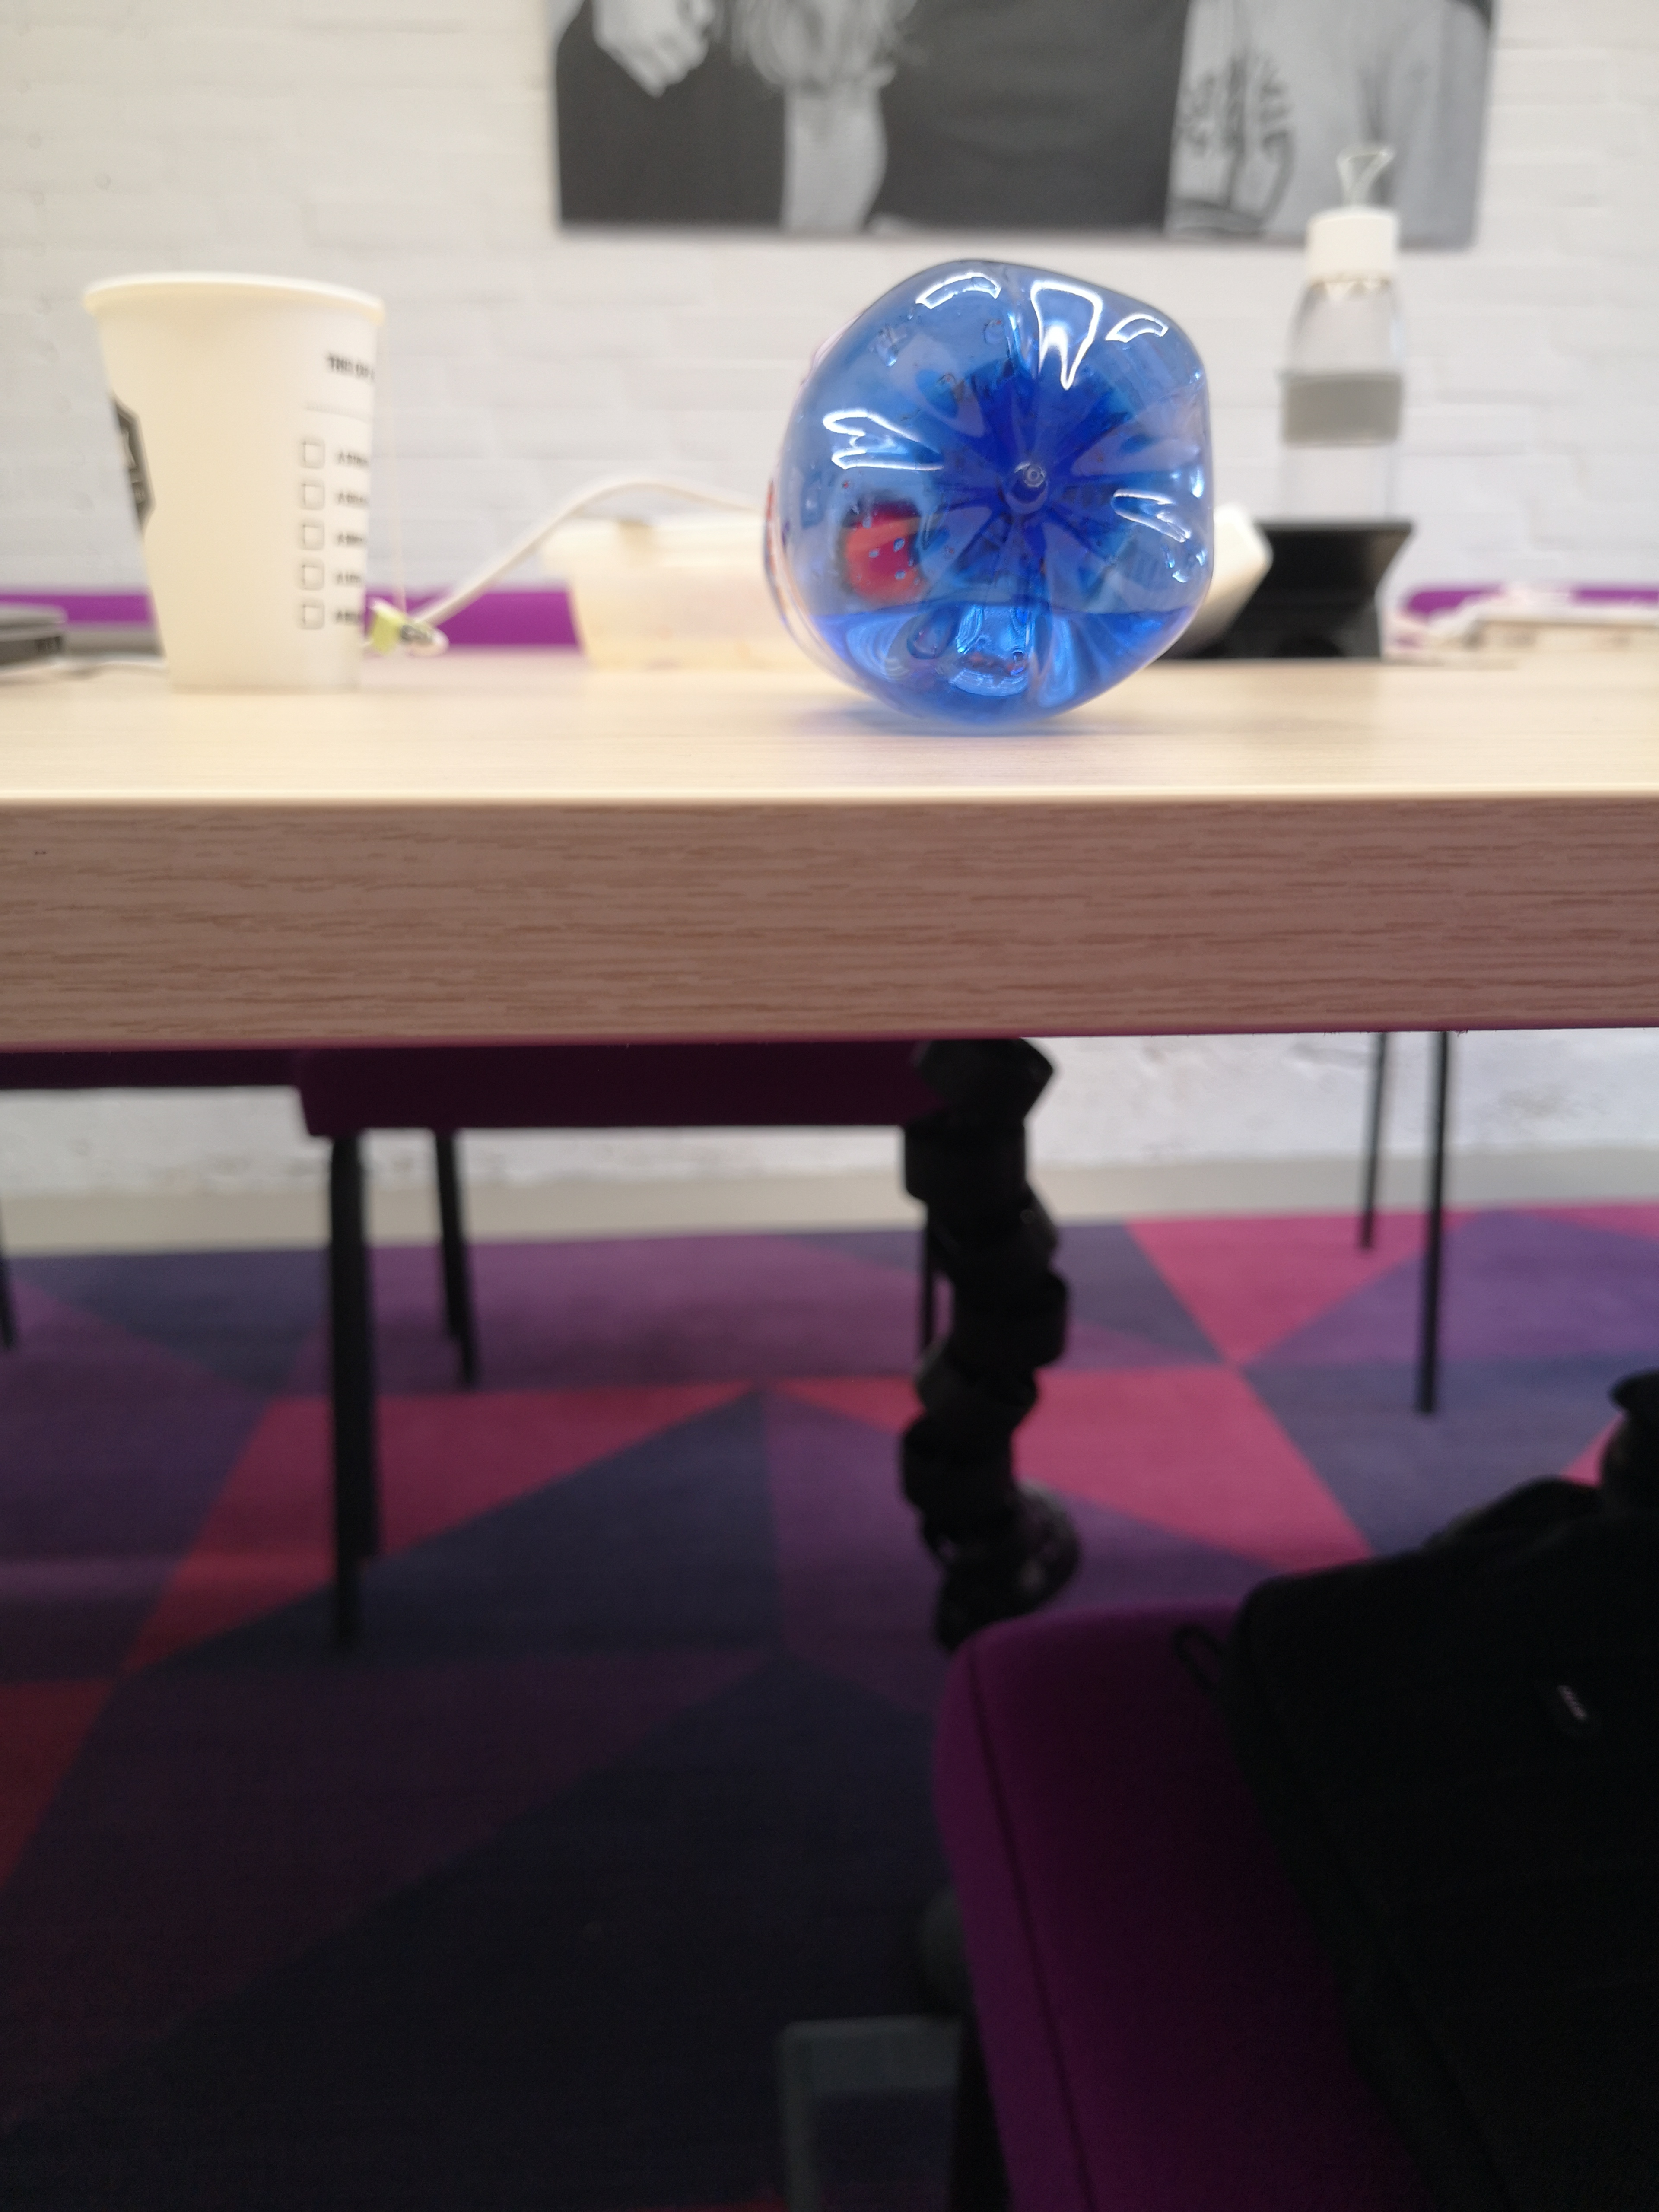cup: (68, 251, 420, 702)
plastic_bottle: (755, 242, 1232, 725), (1256, 195, 1439, 523)
